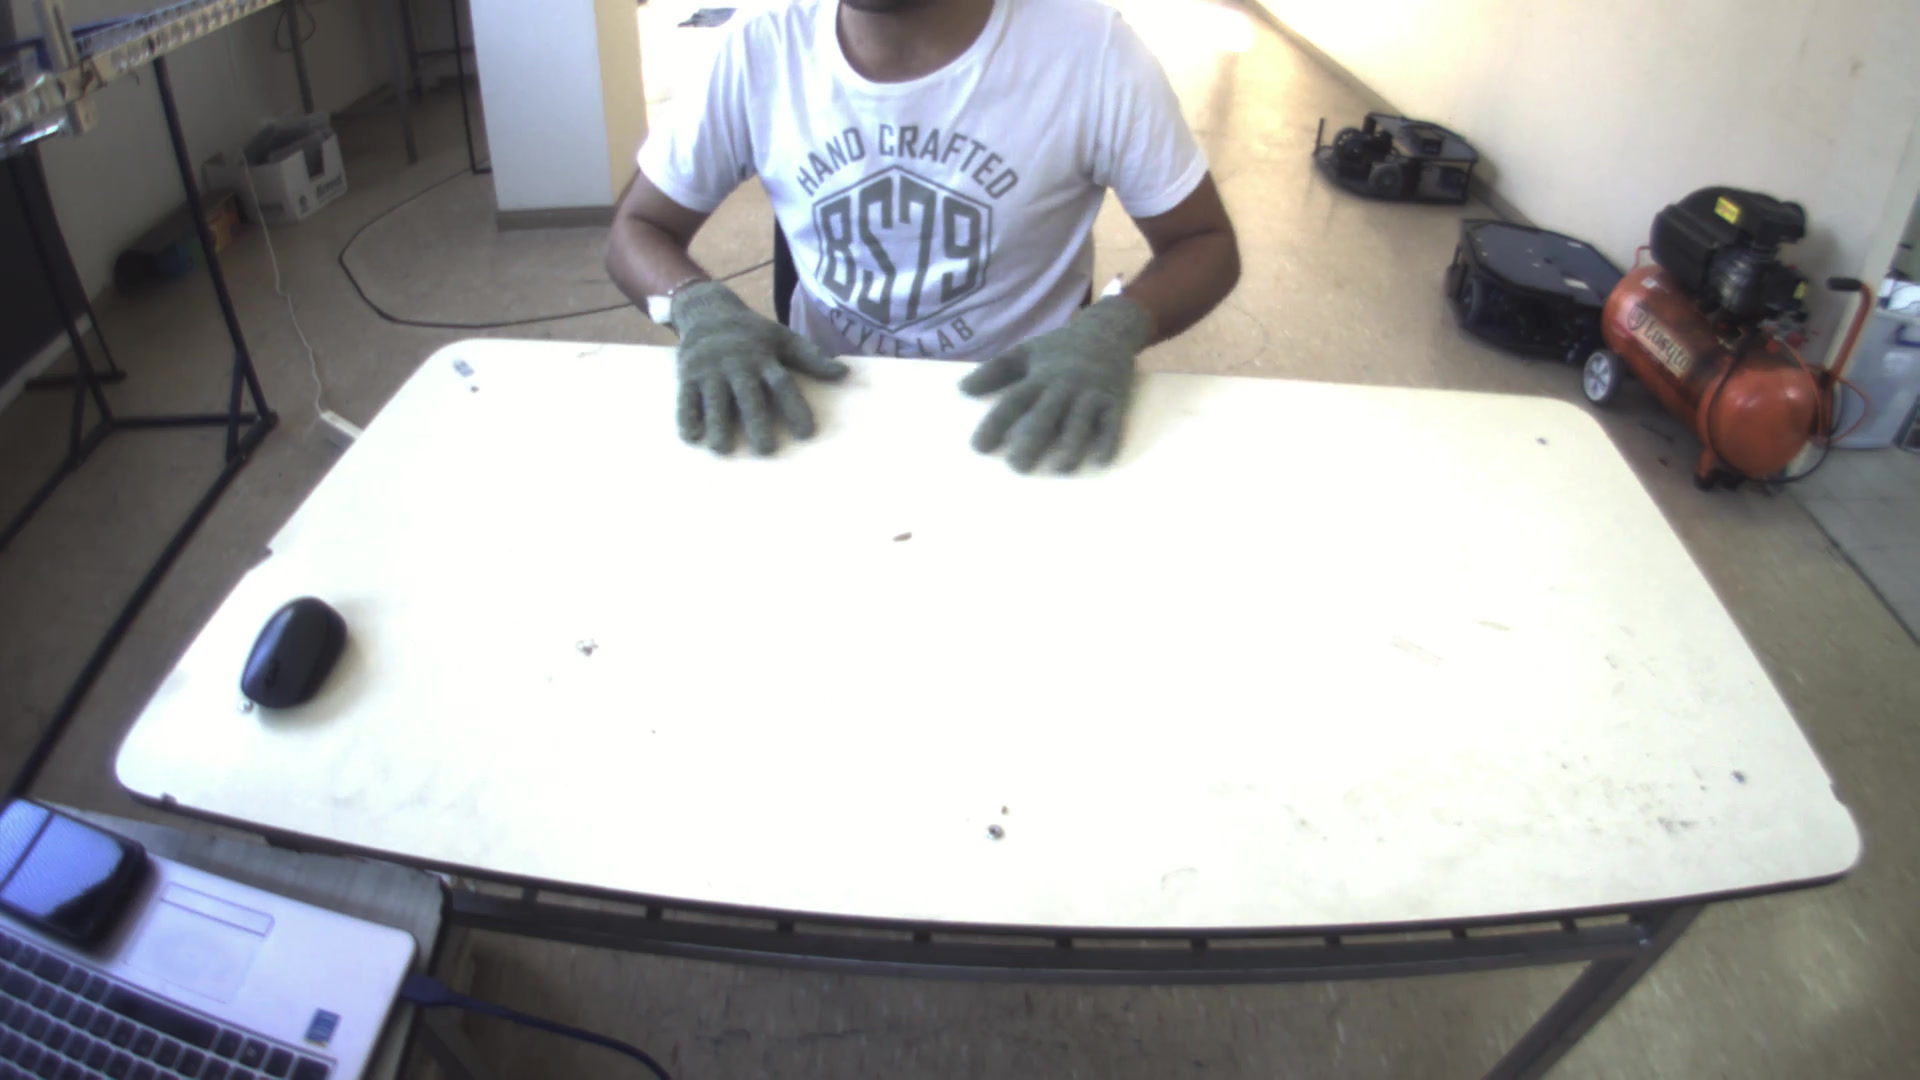hand: (642, 266, 851, 464), (953, 286, 1160, 480)
